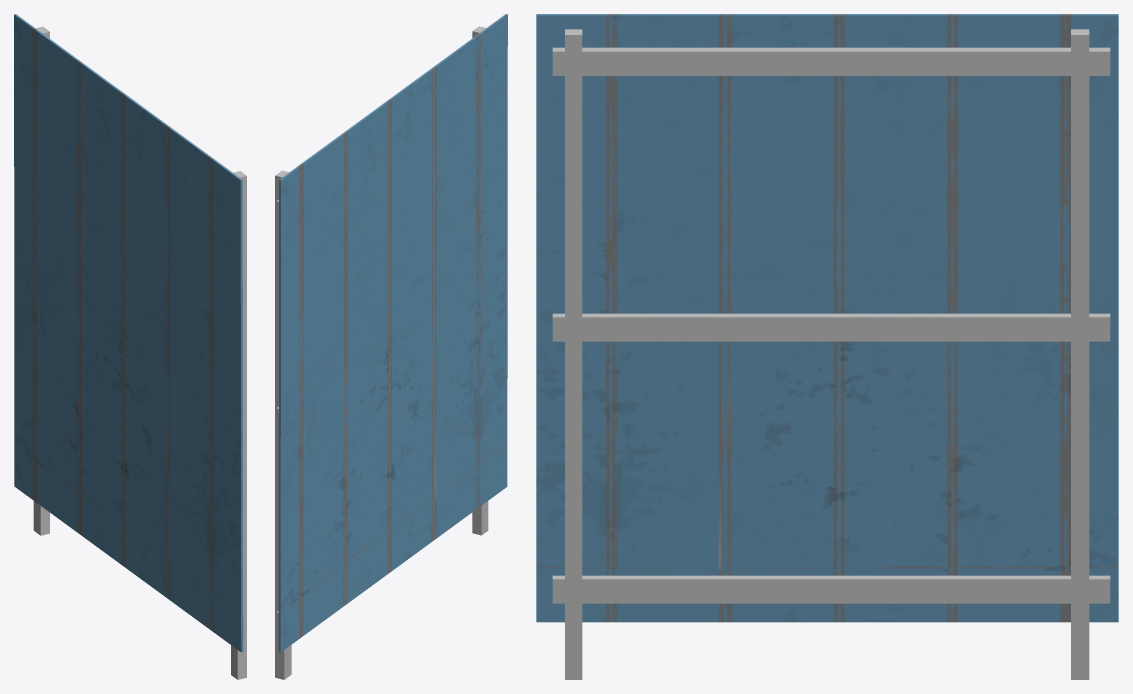
The model's file is TotanFence02a.fbx.
3 views of the same model, side by side, from view 1: azimuth 30°, elevation 25°; view 2: azimuth 150°, elevation 25°; view 3: azimuth 270°, elevation 25° (orthographic). The views are drawn at different scales.
Parts seen in each view (by area): view 1: TotanFence02a; view 2: TotanFence02a; view 3: TotanFence02a.
Boxes of the visible parts, x1=… form: TotanFence02a: x1=14, y1=14, x2=246, y2=679; TotanFence02a: x1=275, y1=14, x2=507, y2=679; TotanFence02a: x1=536, y1=14, x2=1118, y2=679.
Size of the model in its own units: 0.1094 by 3.05 by 2.46.
